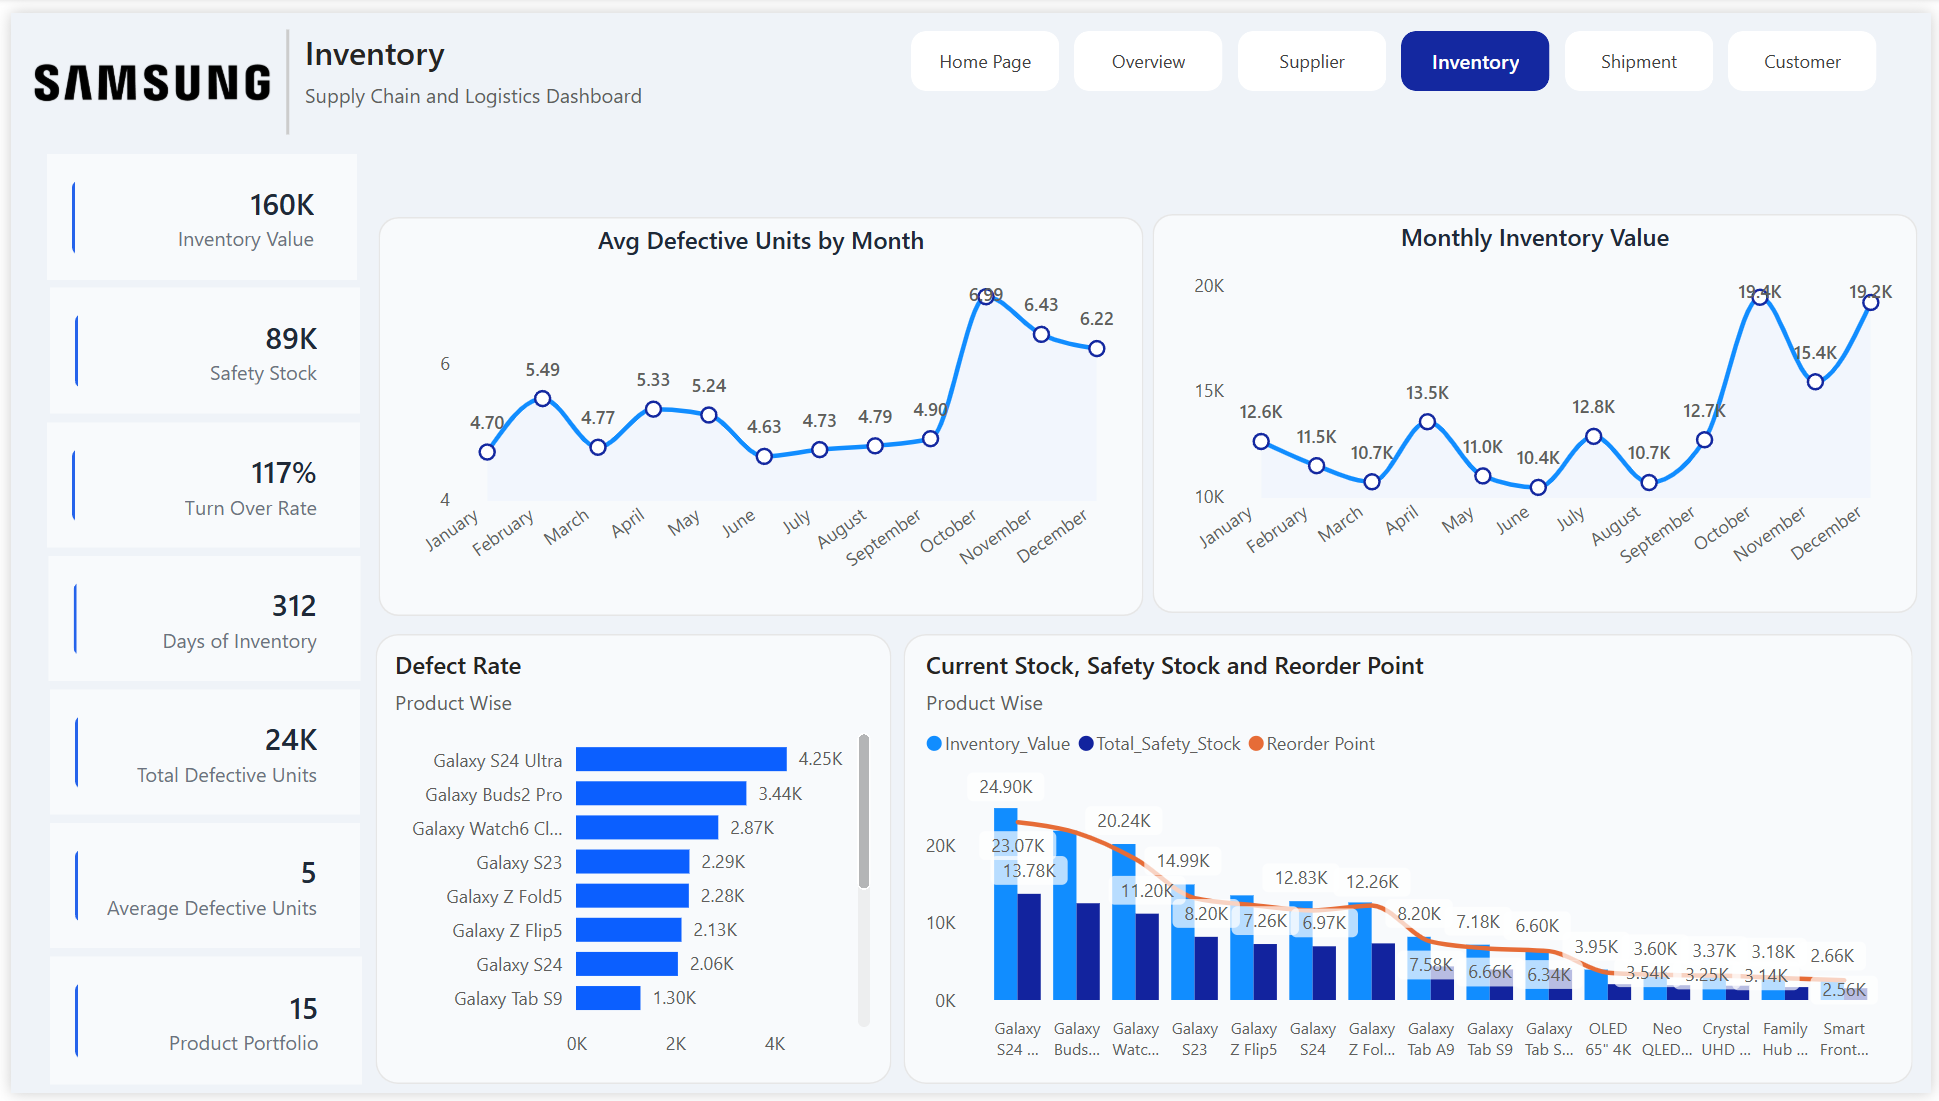

Layout of this report page (visuals, bound fields, positions):
{"tool":"powerbi","page":{"name":"Inventory","canvas":[1280,720],"ordinal":3},"visuals":[{"type":"textbox","title":"Inventory","box":[191.2,11.1,280,82.2],"z":0},{"type":"shape","box":[177.9,11.2,13.5,70],"z":1000},{"type":"image","box":[3.3,23.3,174.8,45.2],"z":2000},{"type":"cardVisual","fields":{"Data":["Measure.Inventory_Value"]},"box":[24,94,207,84],"z":3000},{"type":"cardVisual","fields":{"Data":["Measure.Turn Over Rate"]},"box":[23.9,272.6,208.8,83.8],"z":4000},{"type":"cardVisual","fields":{"Data":["Measure.Days of Inventory"]},"box":[25.5,361.6,207.5,83],"z":5000},{"type":"cardVisual","fields":{"Data":["Sum(fact_production.defective_units)"]},"box":[25.5,450.7,207.5,83.8],"z":6000},{"type":"cardVisual","fields":{"Data":["Avg(fact_production.defective_units)"]},"box":[25.9,539.7,207.5,83.8],"z":7000},{"type":"cardVisual","fields":{"Data":["Measure.Total_Safety_Stock"]},"box":[25.9,183.3,206.7,84],"z":8000},{"type":"cardVisual","fields":{"Data":["Count(dim_product.product_name)"]},"box":[26.3,628.8,207.5,85],"z":9000},{"type":"shape","title":"Supplier De","box":[243.3,414.2,343.8,299.6],"z":10000},{"type":"barChart","title":"Defect Rate","fields":{"Y":["Measure.Defective_Orders"],"Category":["dim_product.product_name"]},"box":[251.3,423.2,326.7,281.5],"z":11000},{"type":"shape","title":"Supplier De","box":[595.1,414.2,672.5,299.6],"z":12000},{"type":"lineClusteredColumnComboChart","title":"Current Stock, Safety Stock and Reorder Point ","fields":{"Category":["dim_product.product_name"],"Y":["Measure.Inventory_Value","Measure.Total_Safety_Stock"],"Y2":["Sum(fact_inventory.reorder_point)"]},"box":[605.2,423.2,653.4,281.5],"z":13000},{"type":"shape","box":[245.3,135.7,509.7,266.4],"z":14000},{"type":"lineChart","fields":{"Category":["dim_date.month_name"],"Y":["Avg(fact_production.defective_units)"]},"box":[256.3,168.9,487.5,223.2],"z":15000},{"type":"shape","box":[761.2,133.6,509.7,266.4],"z":16000},{"type":"lineChart","fields":{"Category":["dim_date.month_name"],"Y":["Measure.Inventory_Value"]},"box":[772.3,166.8,487.5,223.2],"z":17000},{"type":"pageNavigator","box":[600,12,647,40],"z":18000}]}

Visuals, with their boxes in screenshot pixels (x1, y1, x2, y2), scaled from the page's 1280x720 canvas onto the 1939x1101 screenshot:
"Inventory" textbox: (290, 17, 714, 143)
shape: (269, 17, 290, 124)
image: (5, 36, 270, 105)
cardVisual - Measure.Inventory_Value: (36, 144, 350, 272)
cardVisual - Measure.Turn Over Rate: (36, 417, 353, 545)
cardVisual - Measure.Days of Inventory: (39, 553, 353, 680)
cardVisual - Sum(fact_production.defective_units): (39, 689, 353, 817)
cardVisual - Avg(fact_production.defective_units): (39, 825, 354, 953)
cardVisual - Measure.Total_Safety_Stock: (39, 280, 352, 409)
cardVisual - Count(dim_product.product_name): (40, 962, 354, 1092)
"Supplier De" shape: (369, 633, 889, 1092)
"Defect Rate" barChart: (381, 647, 876, 1078)
"Supplier De" shape: (901, 633, 1920, 1092)
"Current Stock, Safety Stock and Reorder Point " lineClusteredColumnComboChart: (917, 647, 1907, 1078)
shape: (372, 208, 1144, 615)
lineChart - dim_date.month_name x Avg(fact_production.defective_units): (388, 258, 1127, 600)
shape: (1153, 204, 1925, 612)
lineChart - dim_date.month_name x Measure.Inventory_Value: (1170, 255, 1908, 596)
pageNavigator: (909, 18, 1889, 80)
